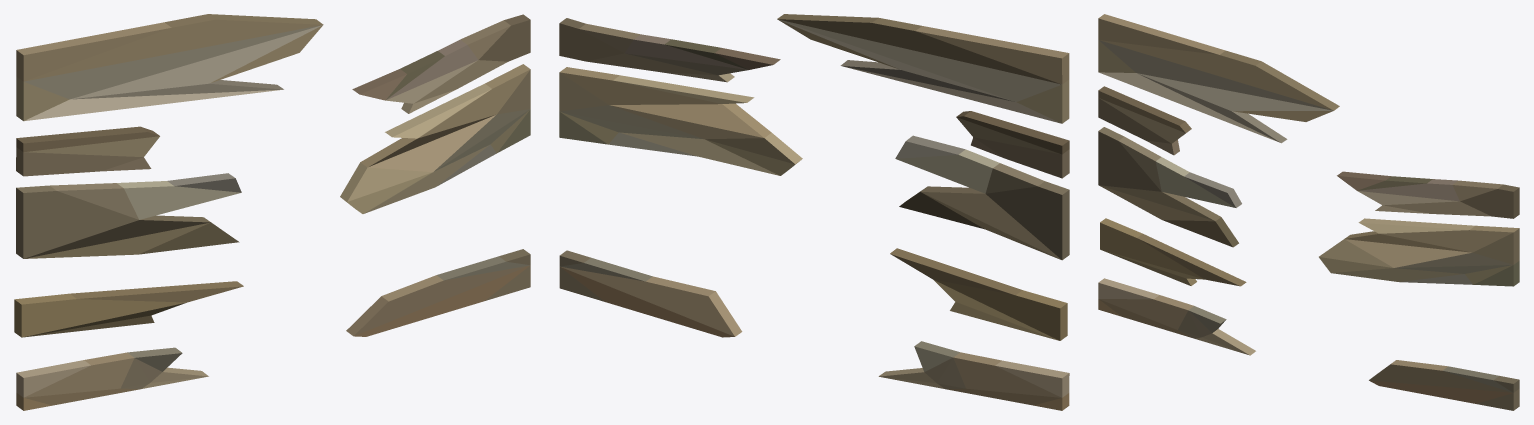
Rendered from Wall_UG-BoardsD.fbx.
The picture shows the model from 3 angles, left to right: view 1: azimuth 30°, elevation 25°; view 2: azimuth 150°, elevation 25°; view 3: azimuth 330°, elevation 25°; orthographic projection. The views are drawn at different scales.
Parts seen in each view (by area): view 1: Wall_UG-BoardsD; view 2: Wall_UG-BoardsD; view 3: Wall_UG-BoardsD.
Boxes of the visible parts, left/top/right/bottom form: Wall_UG-BoardsD: left=14, top=14, right=530, bottom=410; Wall_UG-BoardsD: left=559, top=14, right=1069, bottom=410; Wall_UG-BoardsD: left=1098, top=14, right=1519, bottom=410.
Bounding box in the file's own units: 402 × 278 × 50.85.
